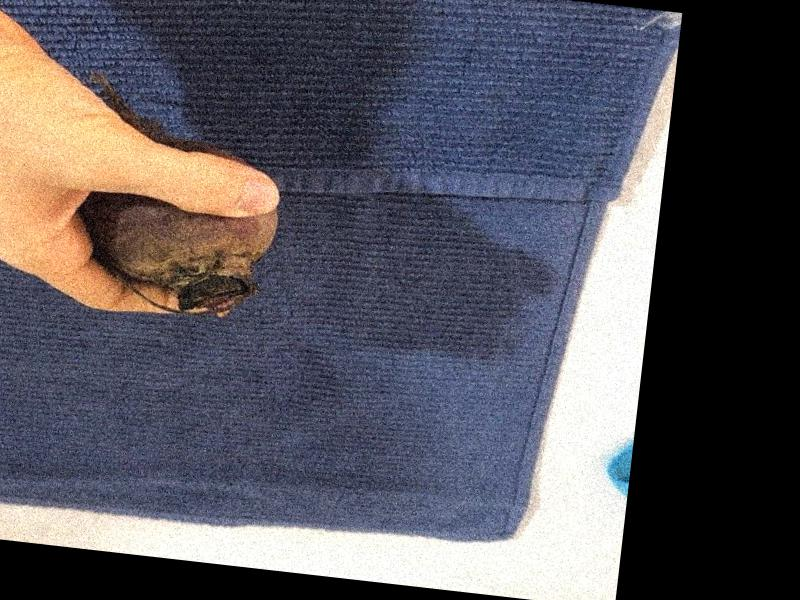Beet: (74, 70, 293, 322)
